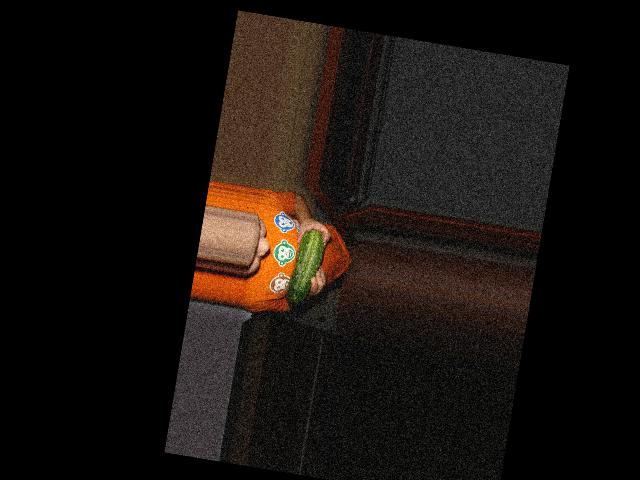cucumber: (284, 226, 327, 309)
